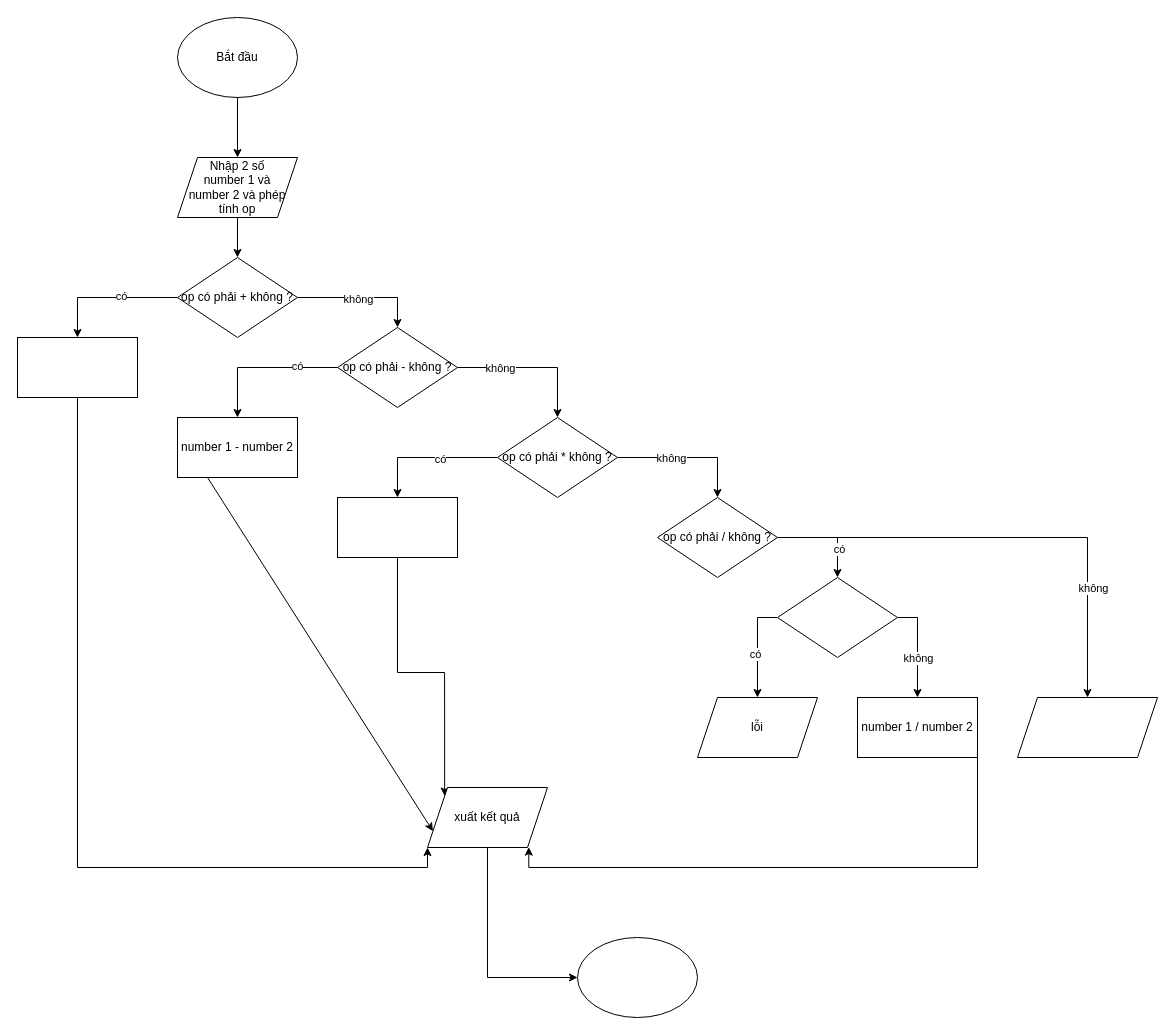
Some shapes in this 1175 by 1035 pixel diagram are drawn without their labels. Each missing label, with the centre of its shape:
"kết thúc" goes at [637,977].
"number 1 * number 2" goes at [397,527].
"number 1 + number 2" goes at [77,367].
"number 2=0?" goes at [837,617].
"phép tính ko hợp lệ" goes at [1087,727].
